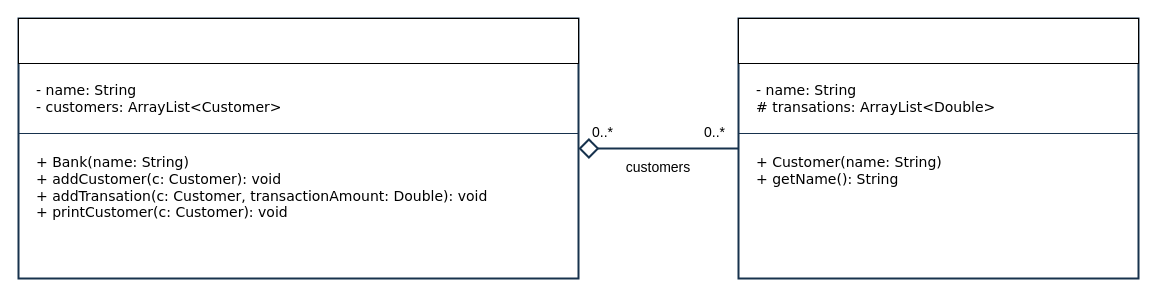
Image size: 1156x296. Some labels were removed from this diagram. Each missing label, with the box of its shape:
Bank: (18, 18, 578, 64)
Customer: (738, 18, 1138, 64)
